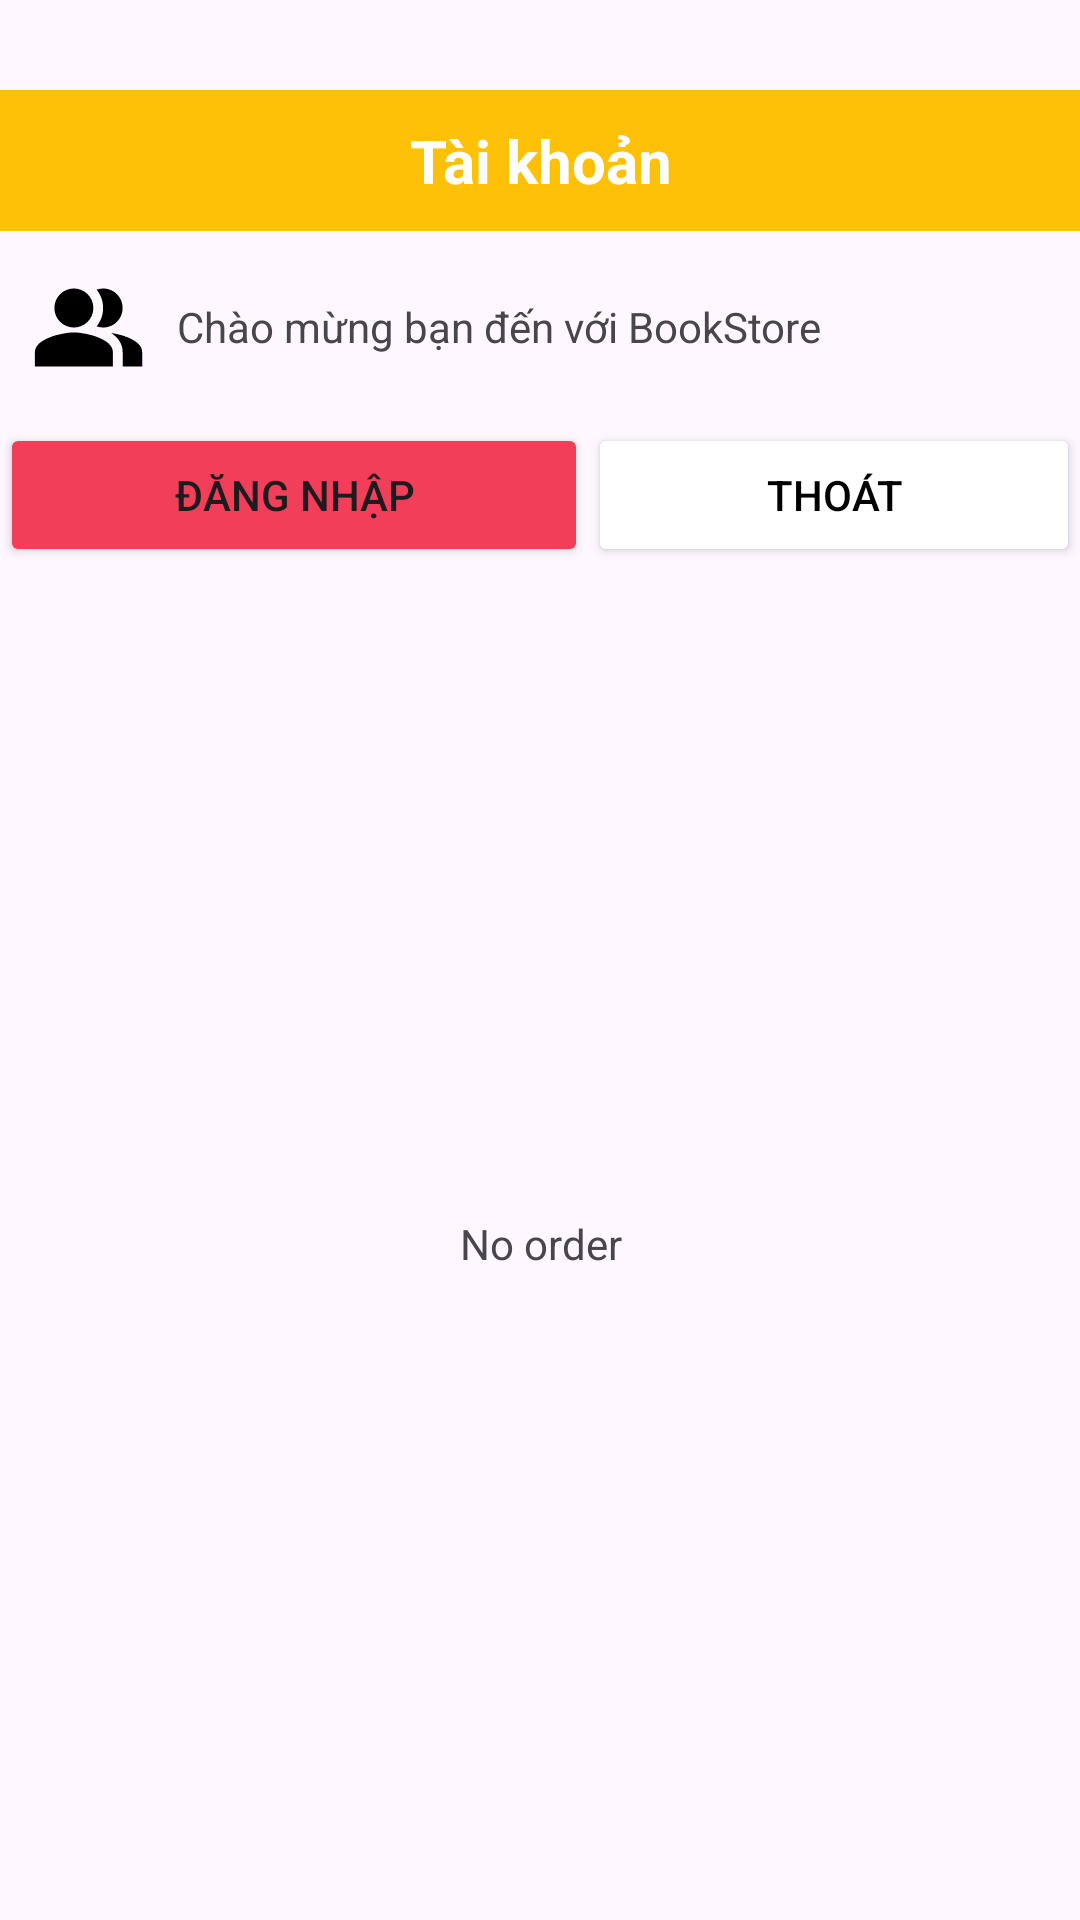

Icon click points for this 1080w x 1920h phone screenshot, format (x,y):
user: (88,327)
